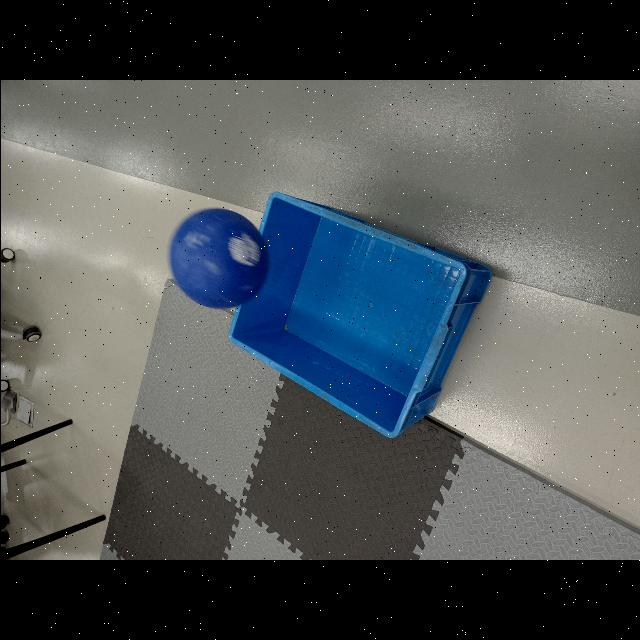B: (168, 202, 270, 314)
